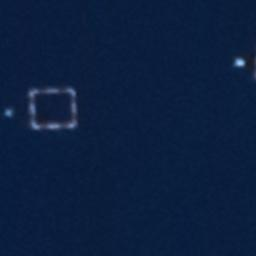square_solid: (24, 83, 82, 135)
